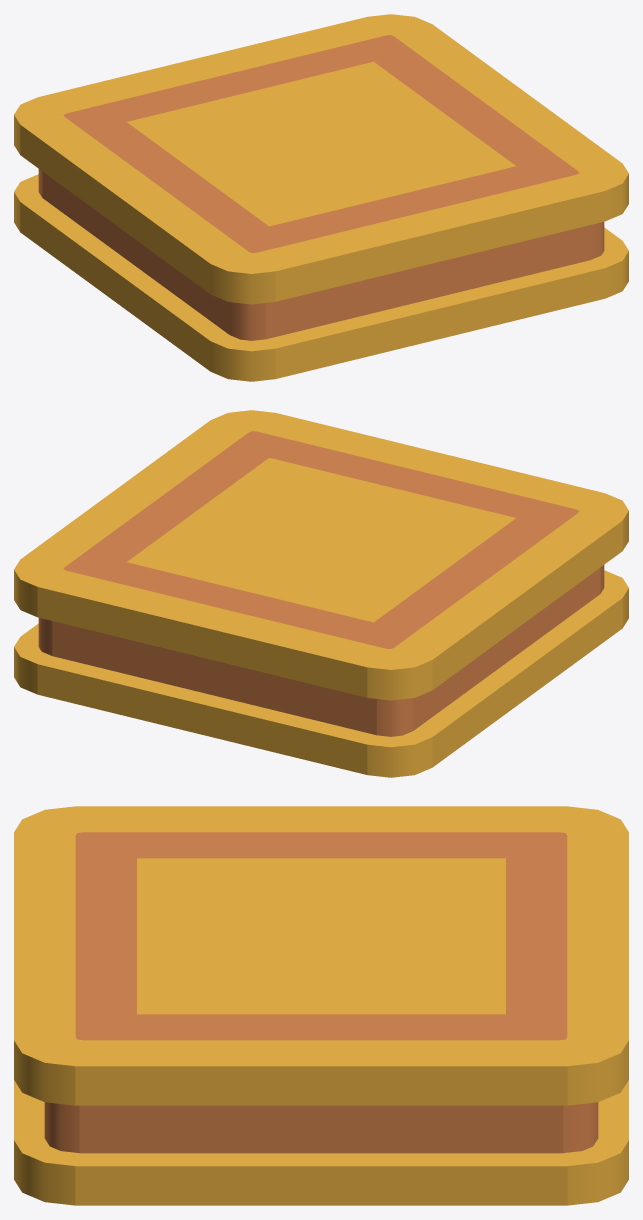
File: blockMoving.dae
3 views of the same model, one above another, from view 1: azimuth 30°, elevation 25°; view 2: azimuth 150°, elevation 25°; view 3: azimuth 270°, elevation 25° (orthographic). The views are drawn at different scales.
Parts seen in each view (by area): view 1: blockMoving; view 2: blockMoving; view 3: blockMoving.
Boxes of the visible parts, x1,y1,x2,y2 form: blockMoving: [14, 14, 628, 381]; blockMoving: [14, 410, 628, 777]; blockMoving: [14, 806, 628, 1205].
Bounding box in the file's own units: 1 × 0.25 × 1.
